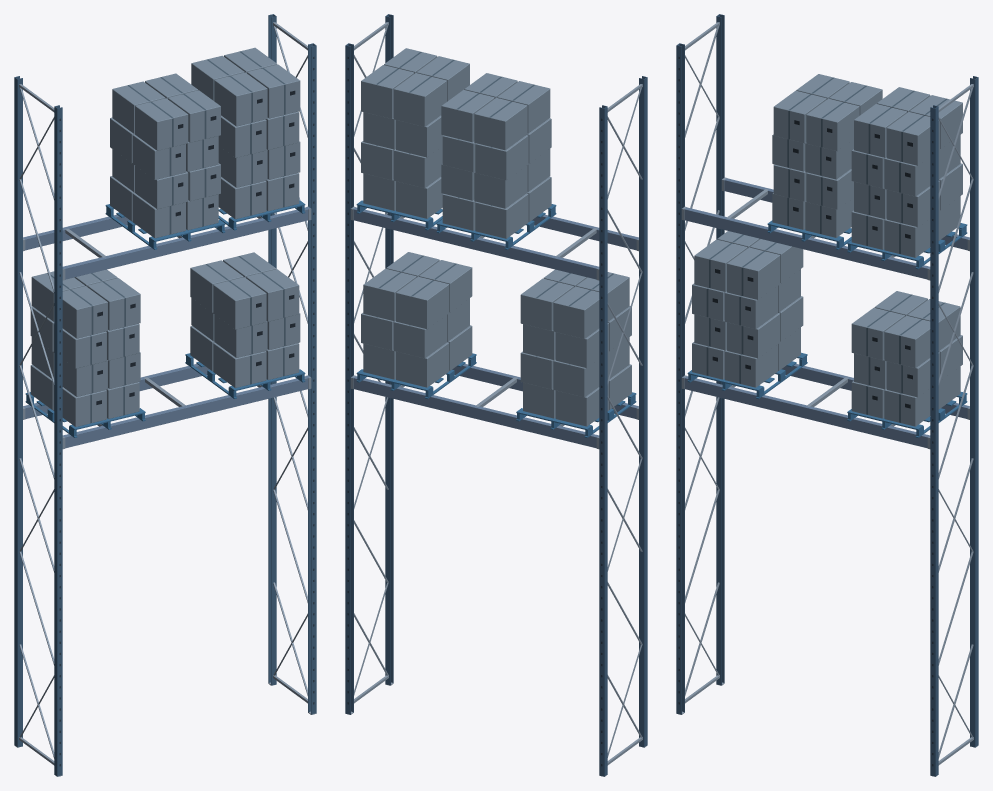
Rendered from SM_GHS_V2Rack_A_Pass_W37138_Occ70.fbx.
3 renders of one model, left to right at view 1: azimuth 30°, elevation 25°; view 2: azimuth 150°, elevation 25°; view 3: azimuth 330°, elevation 25°, orthographic.
Parts seen in each view (by area): view 1: SM_GHS_V2Rack_A_Pass_W37138_Occ70; view 2: SM_GHS_V2Rack_A_Pass_W37138_Occ70; view 3: SM_GHS_V2Rack_A_Pass_W37138_Occ70.
Boxes of the visible parts, x1,y1,x2,y2 form: SM_GHS_V2Rack_A_Pass_W37138_Occ70: (14, 14, 316, 776); SM_GHS_V2Rack_A_Pass_W37138_Occ70: (345, 14, 647, 776); SM_GHS_V2Rack_A_Pass_W37138_Occ70: (676, 14, 978, 776).
Size of the model in its own units: 371 by 122 by 915.
